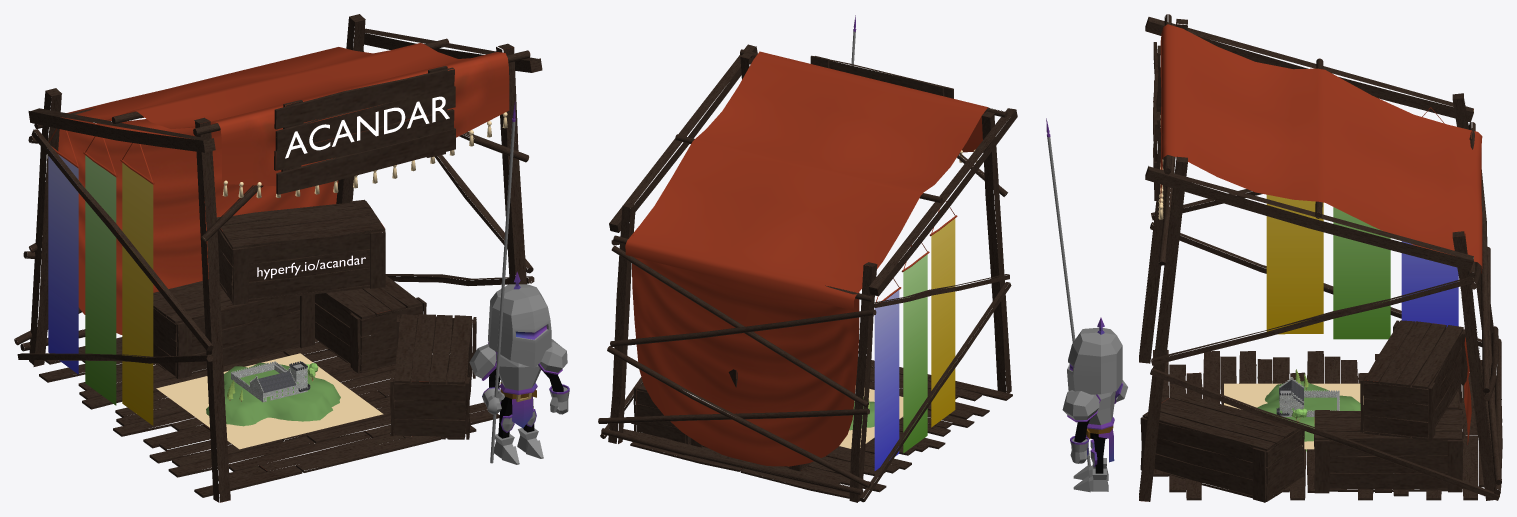
Rendered from acandar_booth-v1.glb.
The picture shows the model from 3 angles, left to right: view 1: azimuth 30°, elevation 25°; view 2: azimuth 150°, elevation 25°; view 3: azimuth 270°, elevation 25°; orthographic projection. The views are drawn at different scales.
Visible parts, largest first — view 1: Soldier_33_Gold_01_Mat_0.005; view 2: Soldier_33_Gold_01_Mat_0.005; view 3: Soldier_33_Gold_01_Mat_0.005.
Boxes of the visible parts, <box> form: Soldier_33_Gold_01_Mat_0.005: <box>14,14,569,502</box>; Soldier_33_Gold_01_Mat_0.005: <box>598,15,1017,502</box>; Soldier_33_Gold_01_Mat_0.005: <box>1046,14,1502,502</box>.
Size of the model in its own units: 3.97 by 4.27 by 4.96.
Materials: 12 (6 with a texture image).
